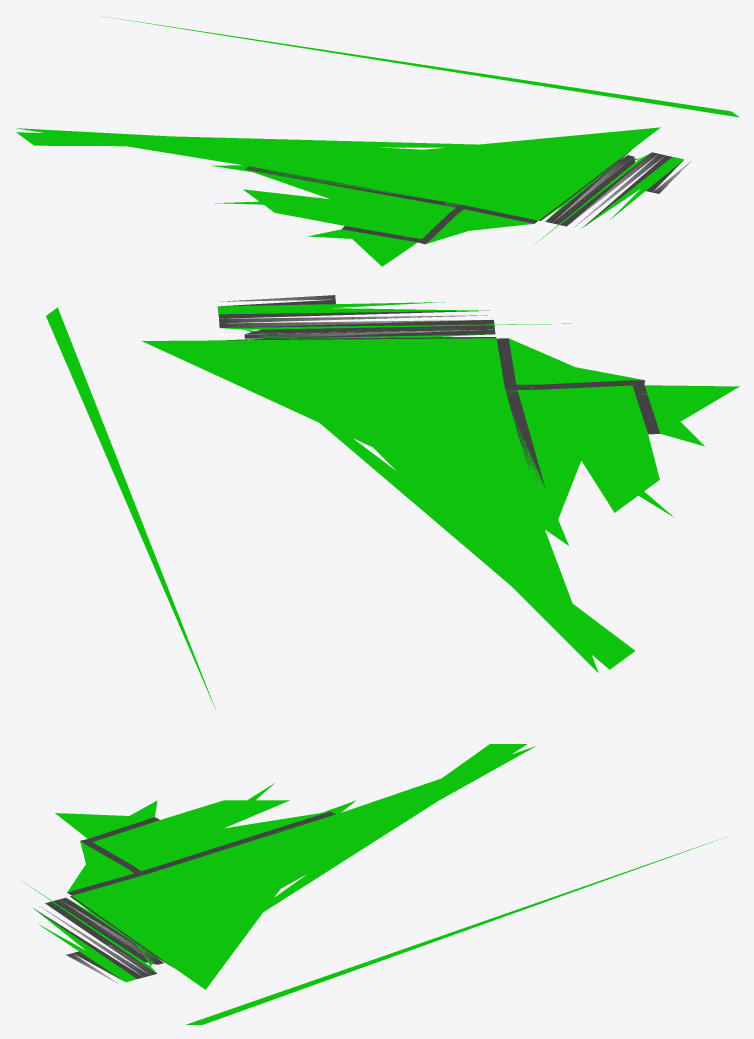
The picture shows the model from 3 angles, top to bottom: view 1: azimuth 30°, elevation 25°; view 2: azimuth 150°, elevation 25°; view 3: azimuth 270°, elevation 25°; orthographic projection. The views are drawn at different scales.
Size of the model in its own units: 300 by 0.001 by 328.
